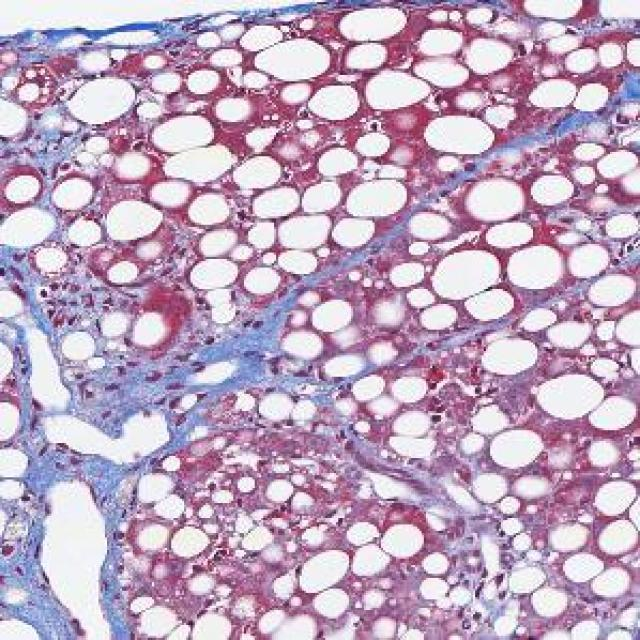fibrosis: (83, 336, 287, 439)
